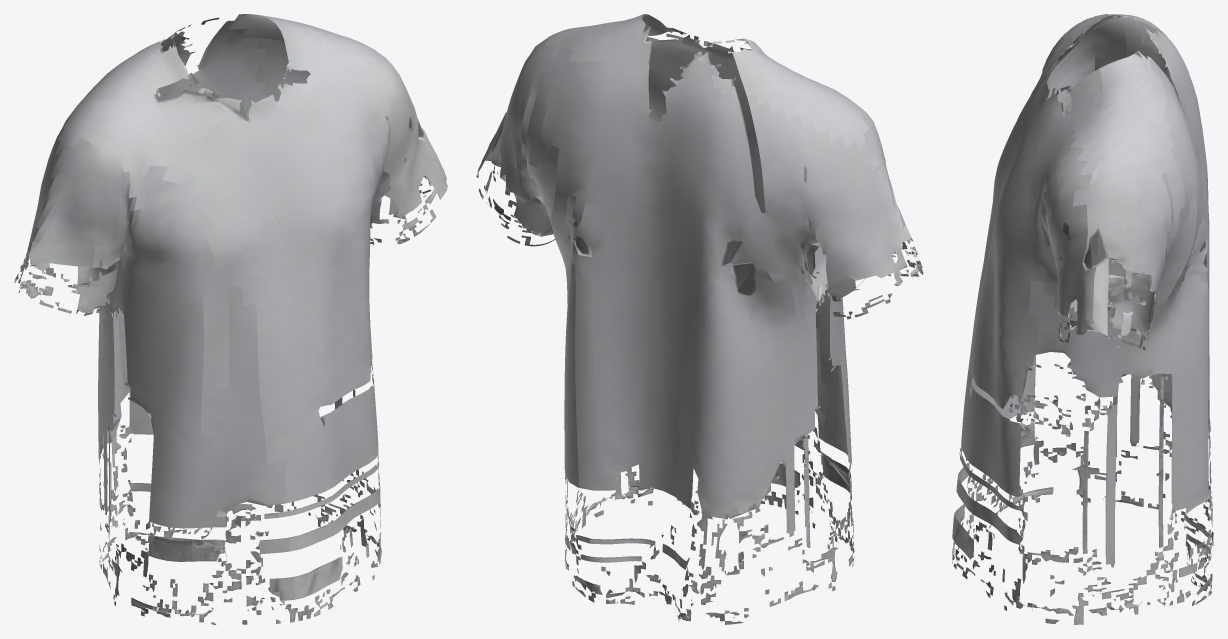
File: tee.glb
3 renders of one model, left to right at view 1: azimuth 30°, elevation 25°; view 2: azimuth 150°, elevation 25°; view 3: azimuth 270°, elevation 25°, orthographic. The views are drawn at different scales.
Size of the model in its own units: 1.57 by 1.9 by 0.8376.
1 material, 1 textured.
